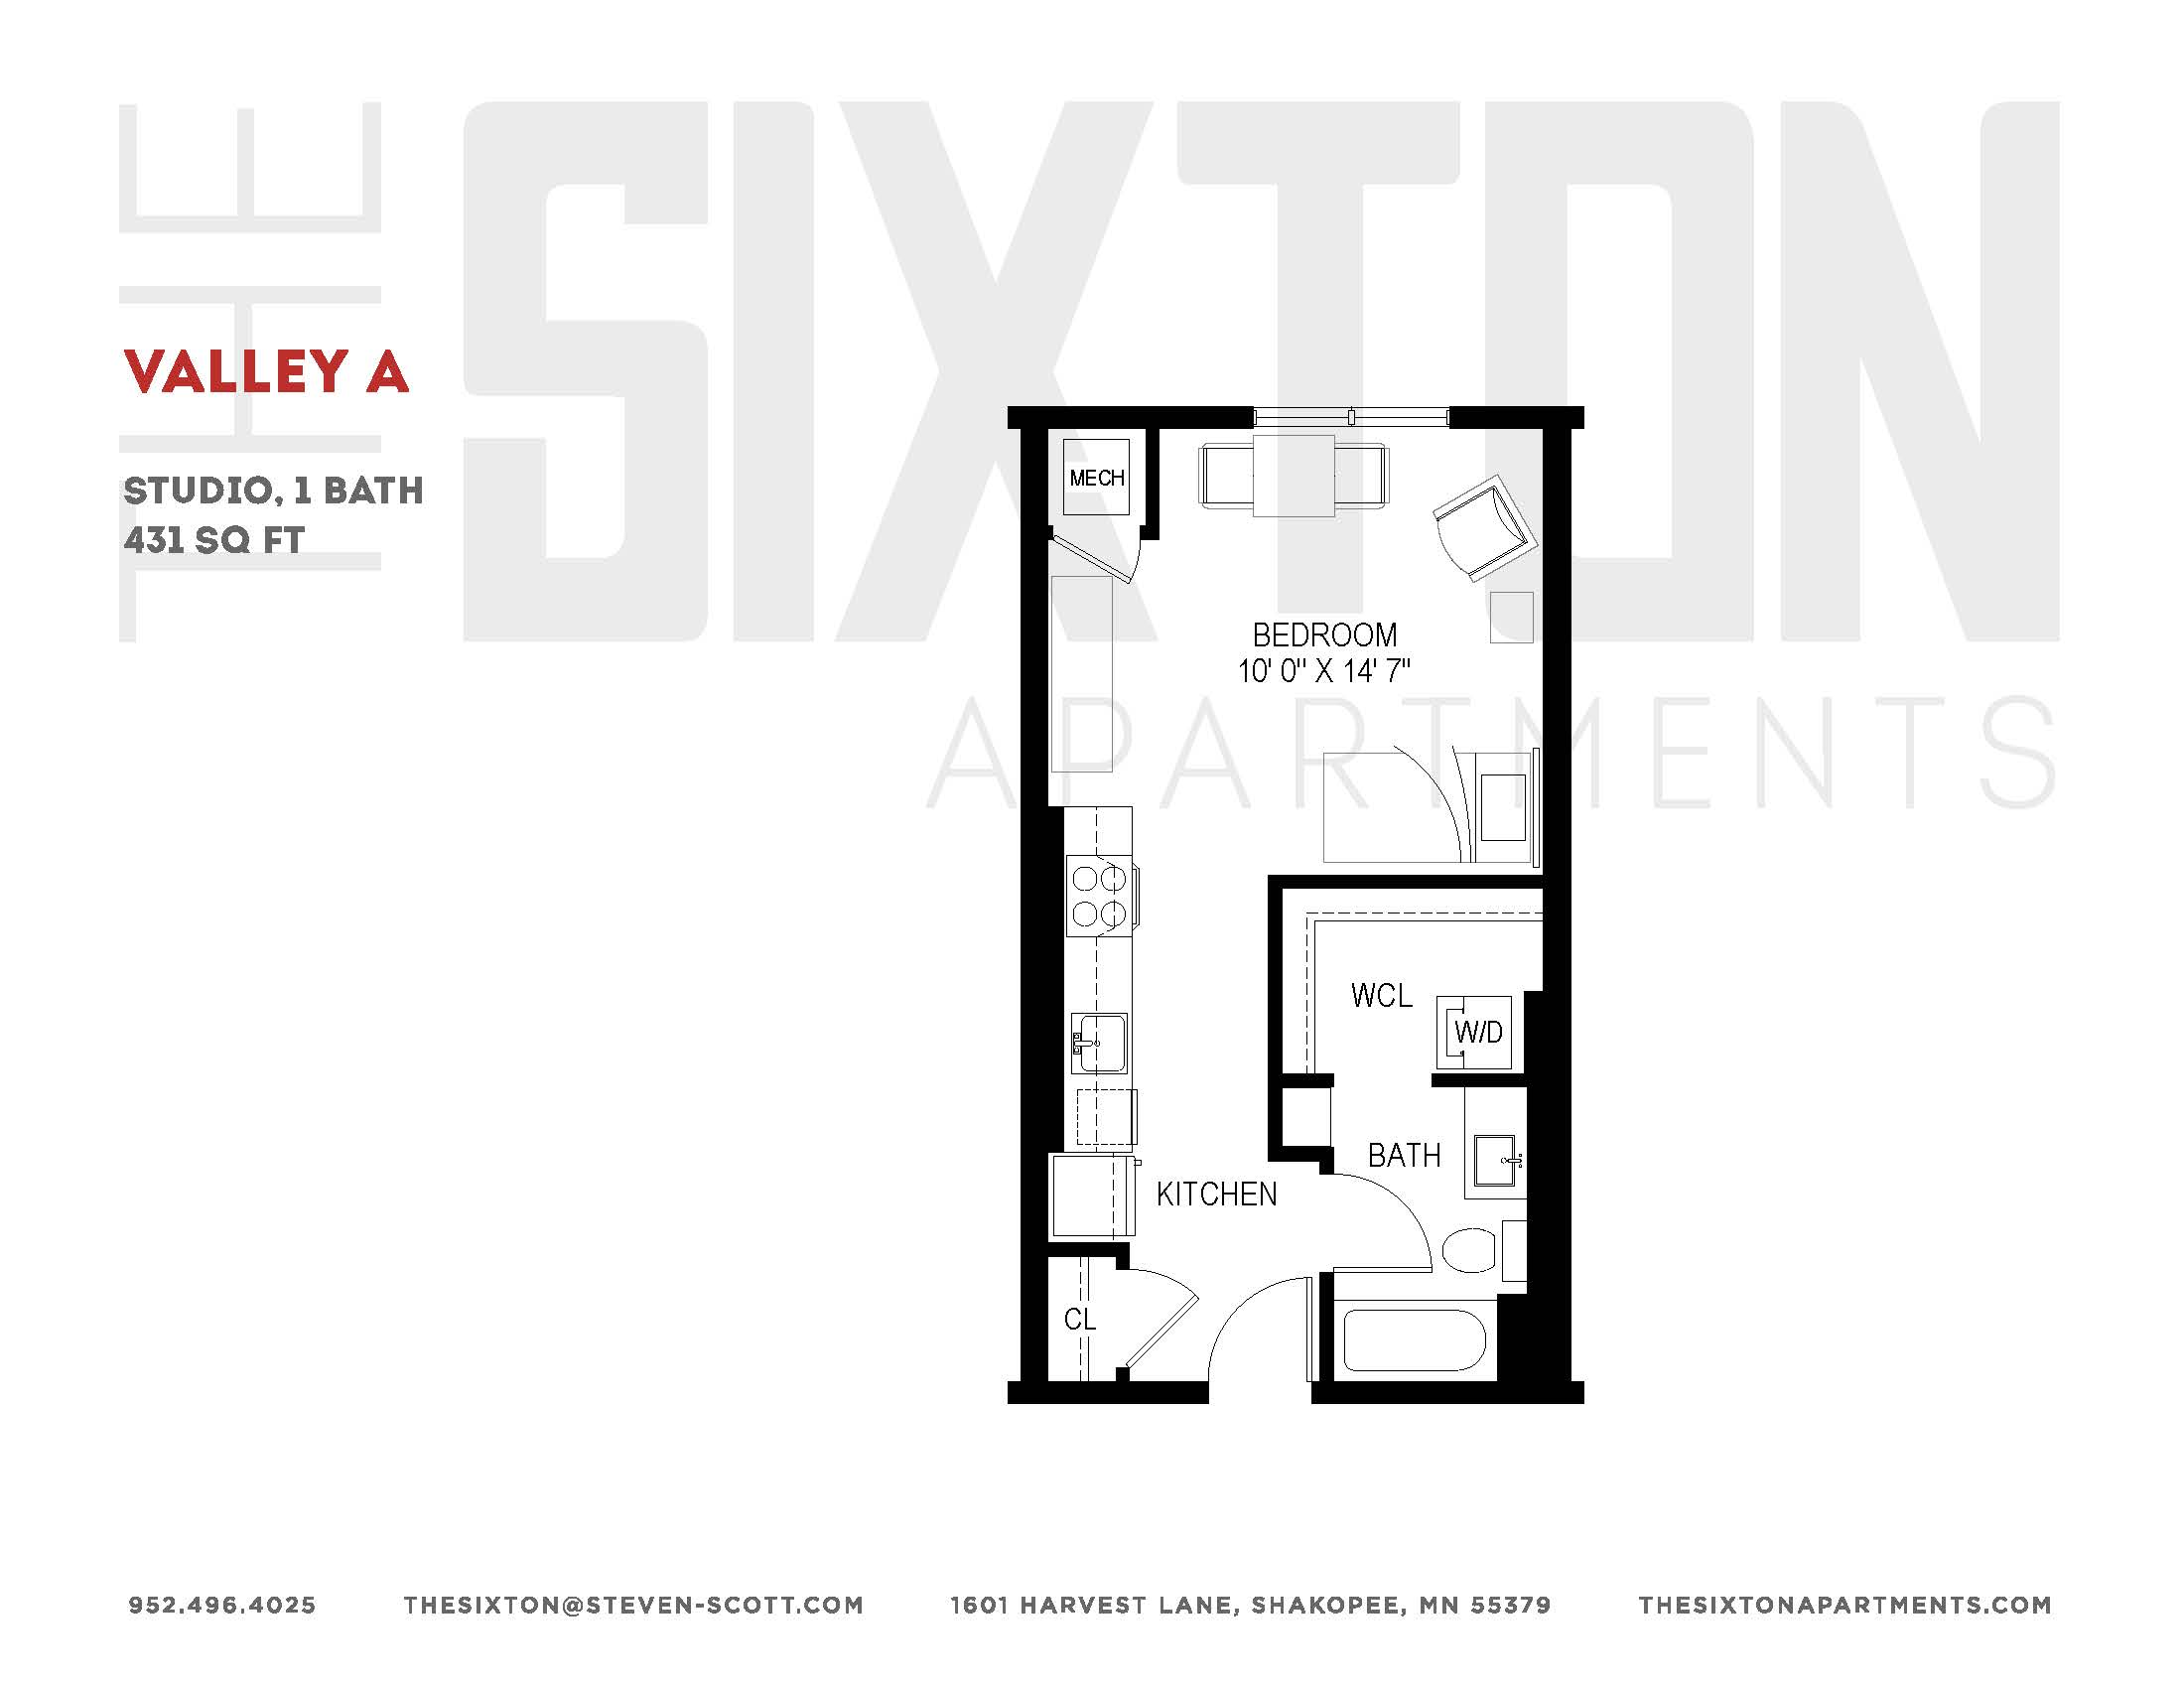door: (1204, 1268, 1319, 1372), (1338, 1172, 1436, 1282), (1133, 1262, 1202, 1356), (1055, 527, 1140, 587)
